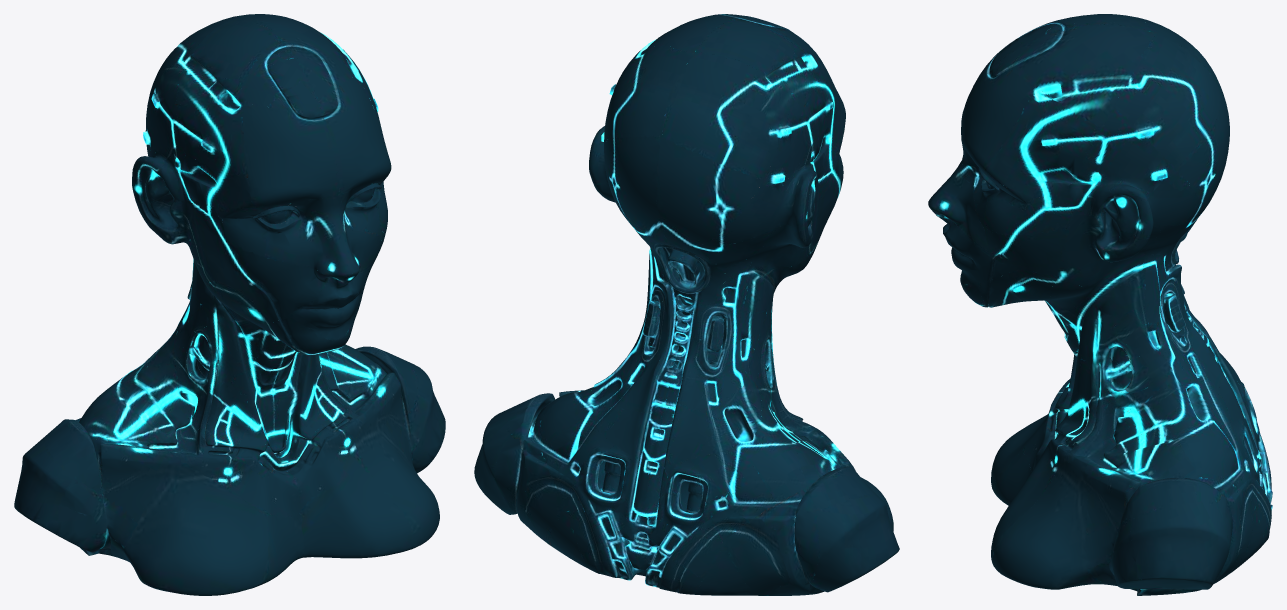
The model's file is prosopo.glb.
3 renders of one model, left to right at view 1: azimuth 30°, elevation 25°; view 2: azimuth 150°, elevation 25°; view 3: azimuth 270°, elevation 25°, orthographic.
Parts seen in each view (by area): view 1: Mesh_0; view 2: Mesh_0; view 3: Mesh_0.
Part boxes in pixels (x1,y1,x2,y2): Mesh_0: (14,14,445,595); Mesh_0: (474,14,899,595); Mesh_0: (928,14,1272,595).
Bounding box in the file's own units: 1.64 × 1.9 × 1.19.
1 material, 1 textured.
